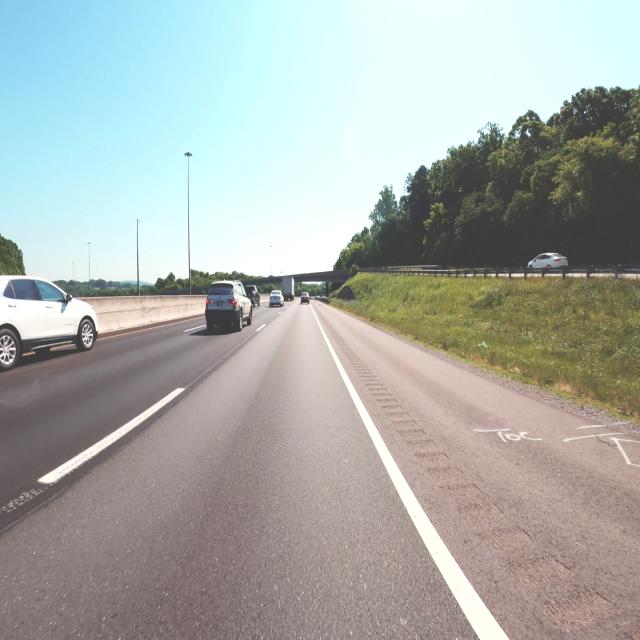car: (0, 276, 97, 369), (205, 280, 253, 333), (528, 253, 568, 270), (245, 285, 260, 306), (270, 290, 284, 307), (301, 292, 310, 303)
